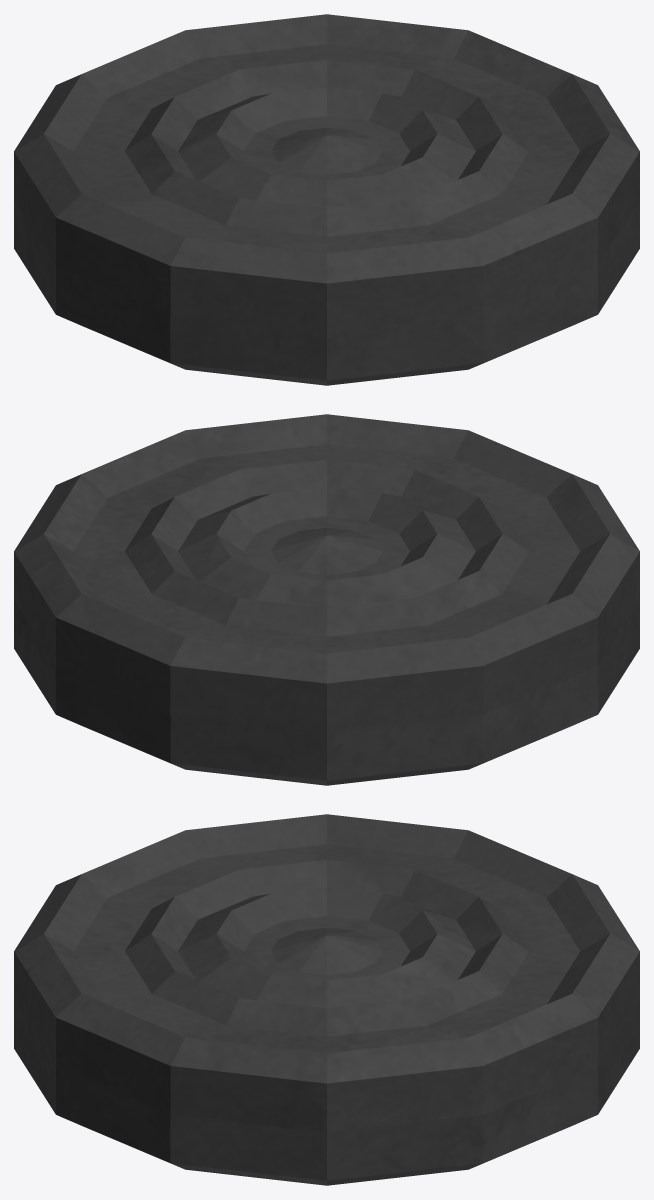
The model's file is dark_piece.fbx.
3 renders of one model, top to bottom at view 1: azimuth 30°, elevation 25°; view 2: azimuth 150°, elevation 25°; view 3: azimuth 270°, elevation 25°, orthographic.
Parts seen in each view (by area): view 1: Dark Piece; view 2: Dark Piece; view 3: Dark Piece.
Boxes of the visible parts, x1,y1,x2,y2 form: Dark Piece: (14,14,639,385); Dark Piece: (14,414,639,785); Dark Piece: (14,814,639,1185).
Size of the model in its own units: 5.13 by 1.2 by 5.13.
1 material, 1 textured.
